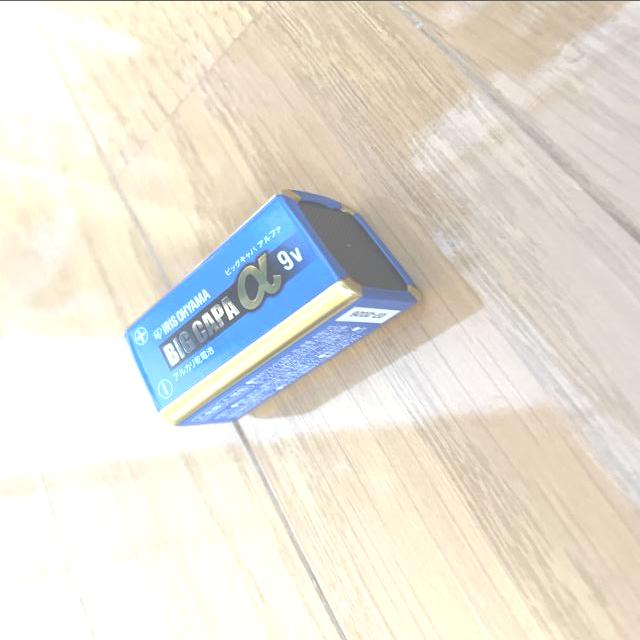9V: (122, 187, 418, 427)
